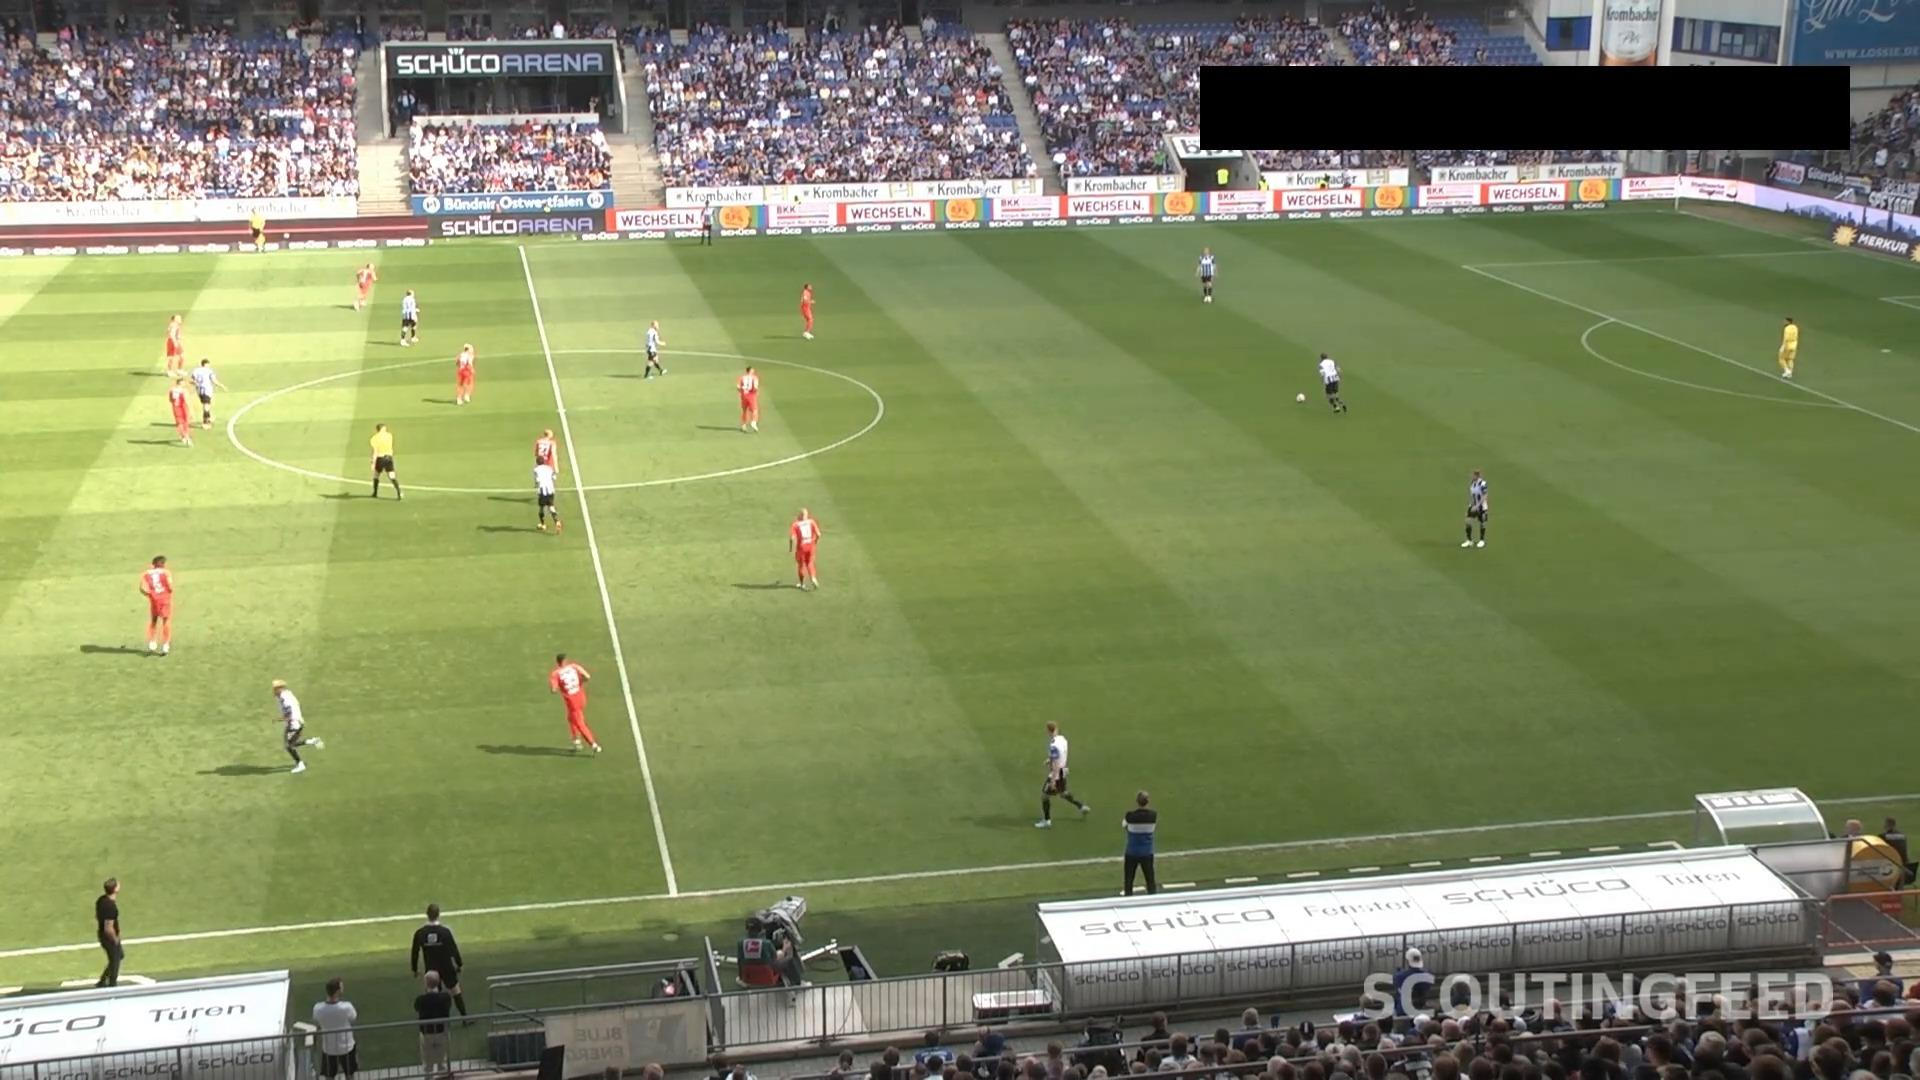ball: (1295, 392, 1307, 404)
